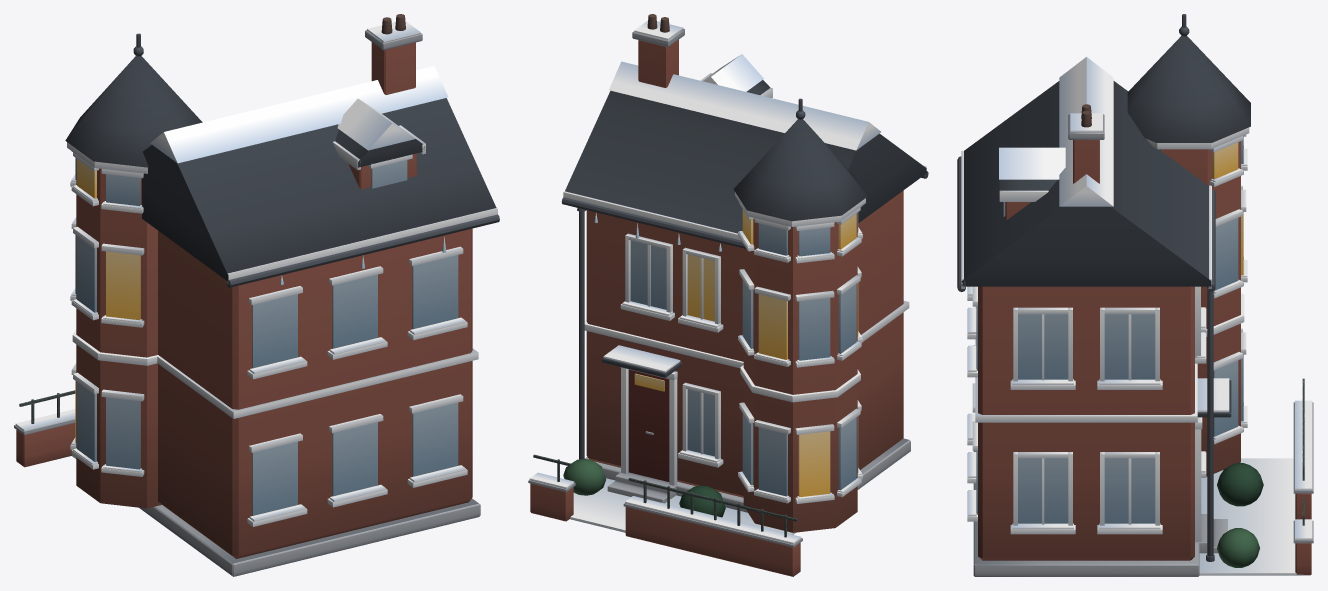
File: ck_house_corner_bay.fbx
3 views of the same model, side by side, from view 1: azimuth 30°, elevation 25°; view 2: azimuth 150°, elevation 25°; view 3: azimuth 270°, elevation 25° (orthographic). The views are drawn at different scales.
Parts seen in each view (by area): view 1: ck_house_corner_bay; view 2: ck_house_corner_bay; view 3: ck_house_corner_bay.
Part boxes in pixels (x1=…): ck_house_corner_bay: x1=14, y1=14, x2=499, y2=576; ck_house_corner_bay: x1=528, y1=14, x2=928, y2=576; ck_house_corner_bay: x1=957, y1=14, x2=1313, y2=576.
Size of the model in its own units: 1715 by 2500 by 1773.
